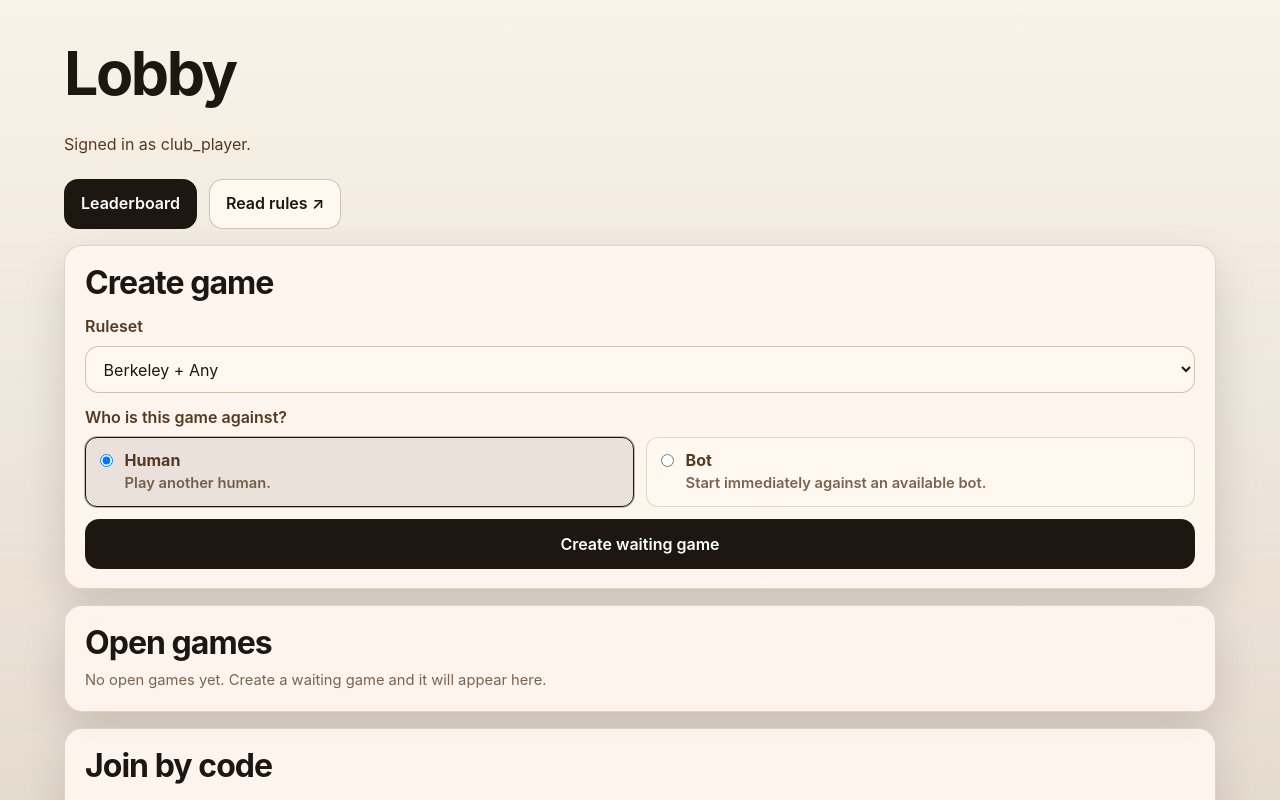
Test: LobbyPage › does_not_treat_missing_bot_rulesets_as_support_for_new_variants
Step 1. Click the radio button labelled "Bot" → x=668, y=460, box x1=661 y1=454 x2=674 y2=467
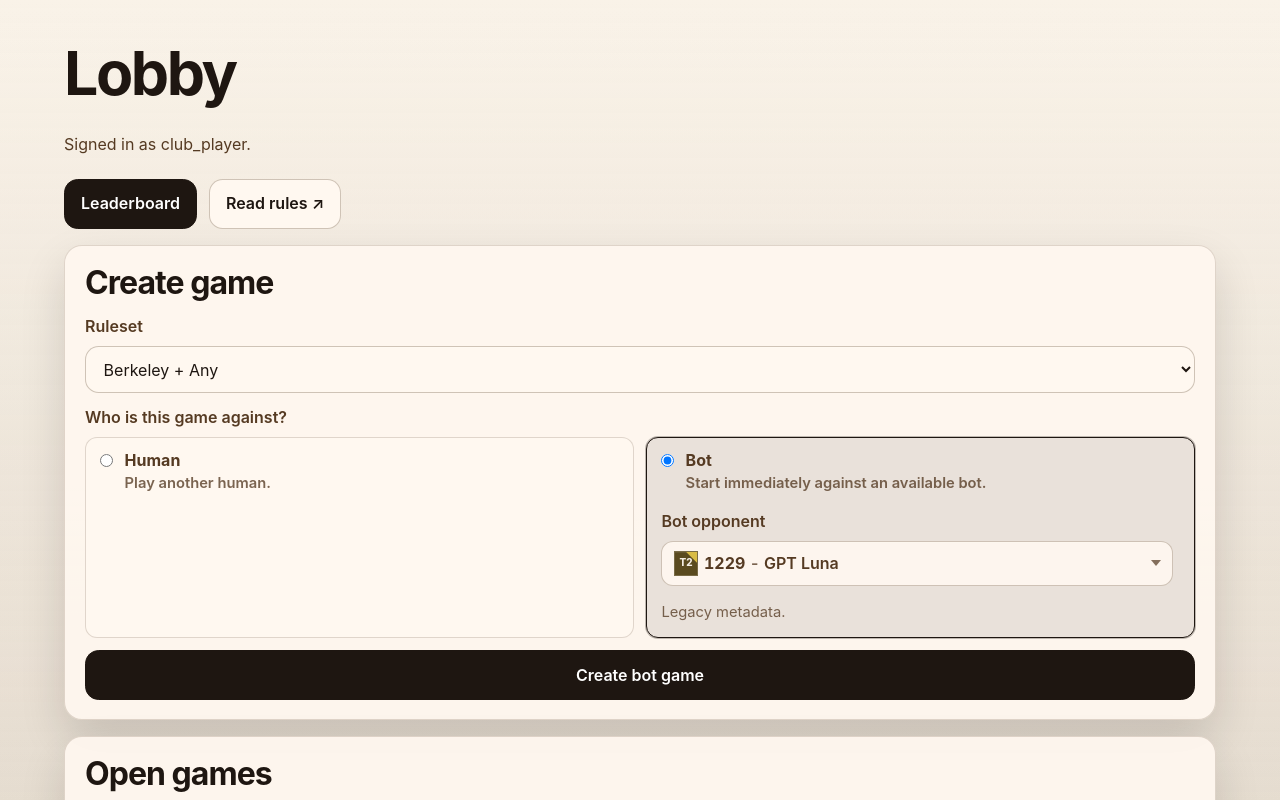
Now the dropdown named "Bot opponent" shows "1229"
Step 2. Click the dropdown named "Bot opponent" → x=725, y=563, box x1=661 y1=541 x2=1173 y2=586
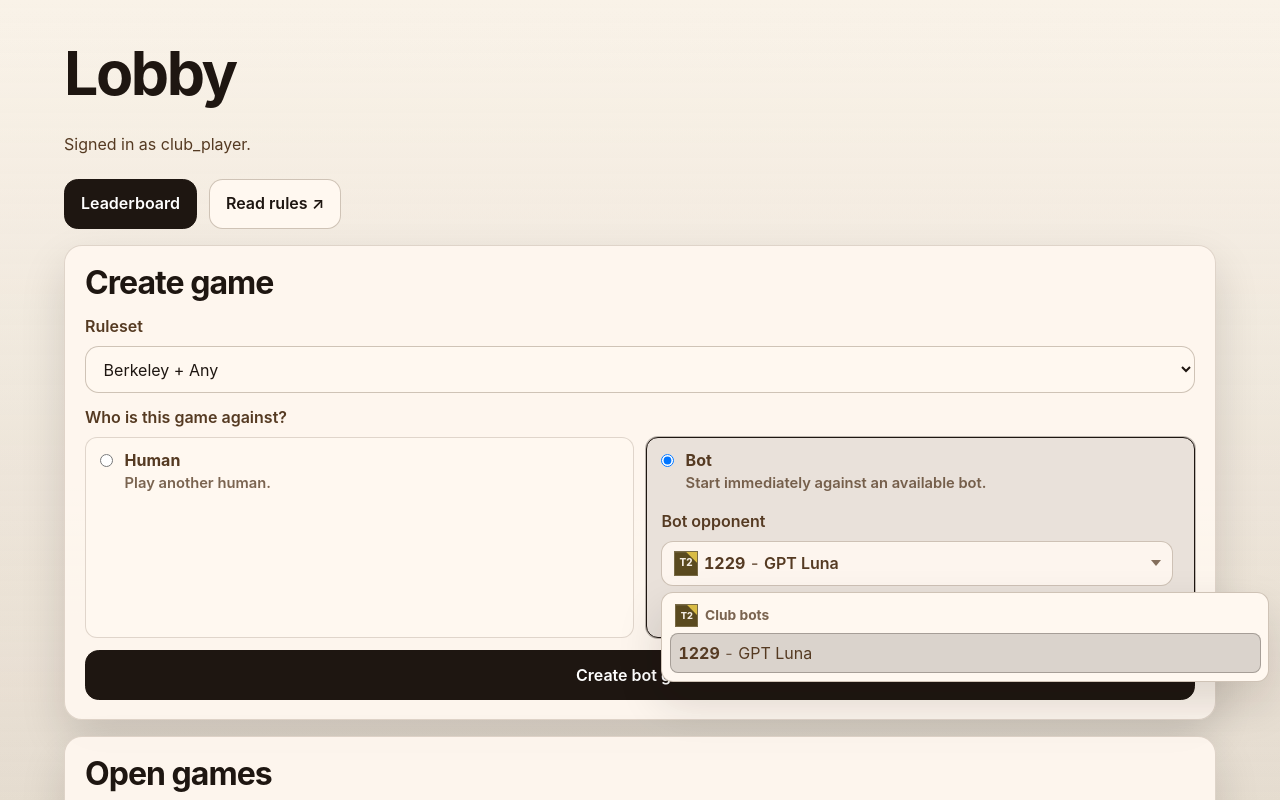
Now the option "1229 - GPT Luna" is shown, box x1=670 y1=633 x2=1261 y2=673
Step 3. Select "CrazyKrieg" in the dropdown labelled "Ruleset" → x=640, y=370, box x1=85 y1=346 x2=1195 y2=393
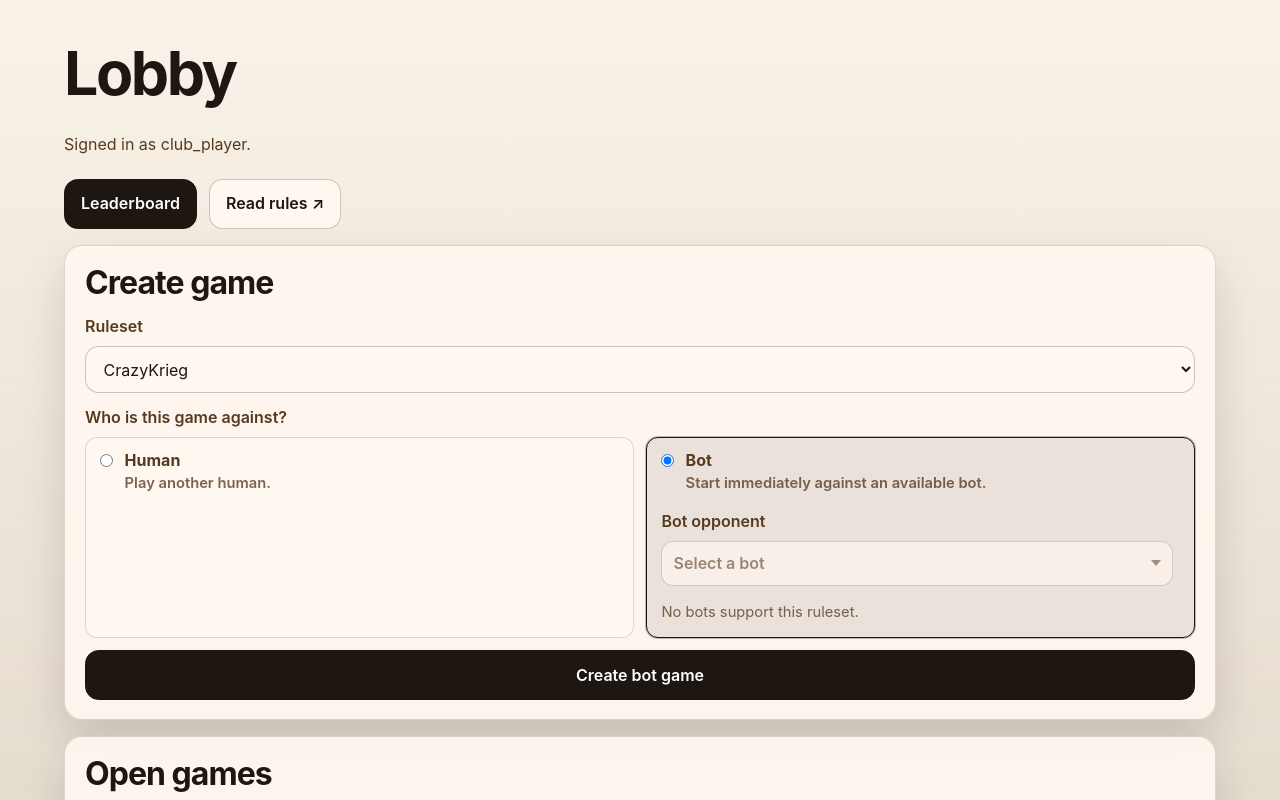
Now the dropdown labelled "1229 - GPT Luna" is gone
Now the text "No bots support this ruleset." is shown, box x1=661 y1=603 x2=859 y2=621
